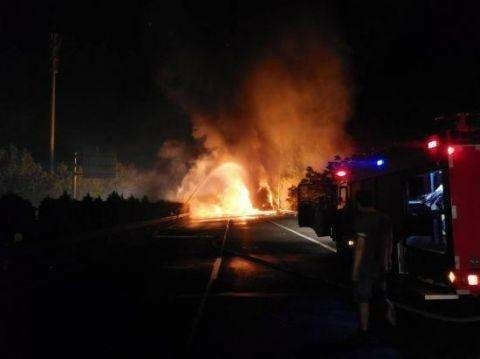fire: (186, 160, 277, 220)
